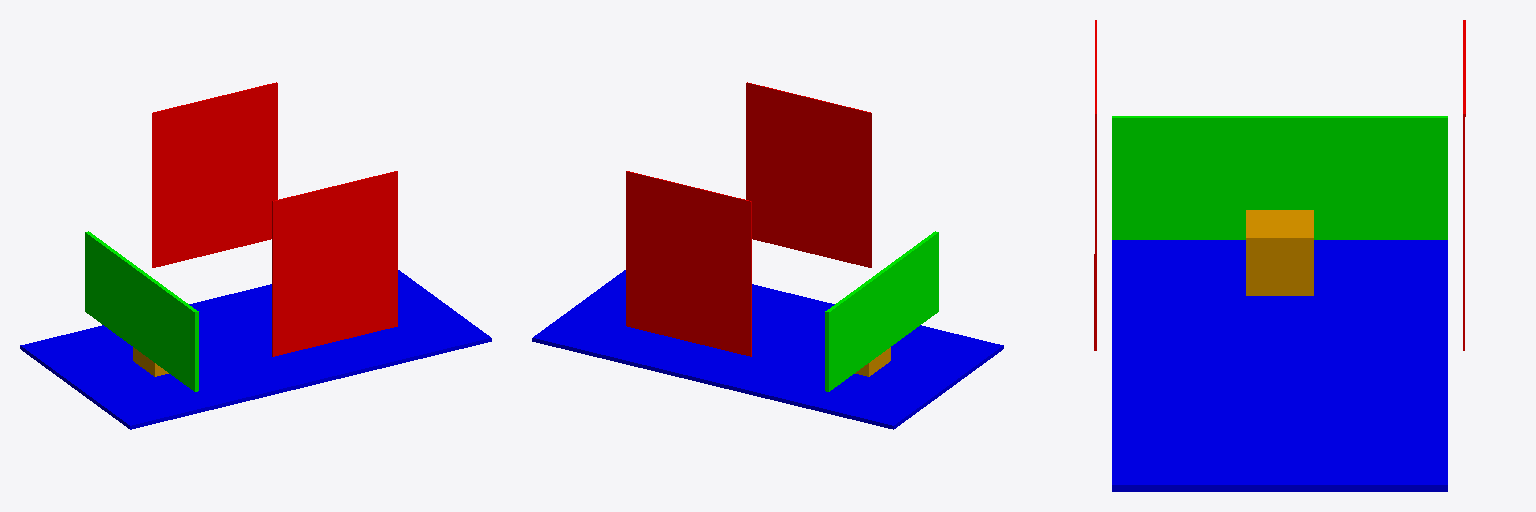
The robot description file, URDF, robot "conveyor_belt_dof1":
<?xml version="1.0"?>
<!-- =================================================================================== -->
<!-- |    This document was autogenerated by xacro from yaskawa7.urdf.xacro               | -->
<!-- |    EDITING THIS FILE BY HAND IS NOT RECOMMENDED                                 | -->
<!-- =================================================================================== -->
<robot name="conveyor_belt_dof1" xmlns:xacro="http://www.ros.org/wiki/xacro">
  <!-- Import Rviz colors -->
    <material name="green">
      <color rgba="0.0 1.0 0.0 1.0"/>
    </material>
    <material name="blue">
      <color rgba="0.0 0.0 1.0 1.0"/>
    </material>
    <material name="red">
      <color rgba="1.0 0.0 0.0 1.0"/>
    </material>
    <material name="white">
      <color rgba="1.0 1.0 1.0 1.0"/>
    </material>

    <!-- LINKS -->
    <!-- virtual link interfacing with ee_mount on robot arm-->
    <link name="ee_base">
      <visual>
        <geometry>
          <box size="0.1 0.1 0.1"/>
        </geometry>
        <origin rpy="0 0 0" xyz="0.055 0 -0.1"/>
      </visual>
    </link>

    <!-- links of cylinder base connected with the ee_base -->
    <!-- visual only? DO NOT ERASE THIS!! -->
    <!-- <link name="conveyor_belt_dof1_link">
      <inertial>
        <mass value="1.2"/>
        <origin xyz="0 0 0"/>
        <inertia ixx="1.0" ixy="0.0" ixz="0.0" iyy="1.0" iyz="0.0" izz="1.0"/>
      </inertial>
      <visual>
        <material name="white"/>
        <geometry>
          <mesh filename="../mesh/cbee_gripper_1st-collision.obj" />
        </geometry>
        <origin rpy="0 0 3.14" xyz="0.55 0 -0.1"/>
      </visual>
    </link> -->

    

     <!-- virtual link, equivlent of TCP (Tool Center Point) -->
    <link name="whisker_right_link">
      <inertial>
        <mass value="0.1"/>
        <origin xyz="0 0 0"/>
        <inertia ixx="1.0" ixy="0.0" ixz="0.0" iyy="1.0" iyz="0.0" izz="1.0"/>
      </inertial>
      <visual>
        <material name="red"/>
        <geometry>
          <box size="0.33 0.39 0.003"/> <!-- Approximation of whiskers -->
          <!-- <mesh filename="../mesh/CBEE_v4_whisker_drake.obj" /> -->
        </geometry>
        <origin rpy="1.57 0 0" xyz="0 -0.275 0.15"/>
      </visual>
      <collision>
        <geometry>
          <box size="0.33 0.39 0.003"/> <!-- Approximation of whiskers -->
          <!-- <mesh filename="../mesh/CBEE_v4_whisker_drake.obj" /> -->
        </geometry>
        <origin rpy="1.57 0 0" xyz="0 -0.275 0.15"/>
      </collision>
    </link>

    <link name="whisker_left_link">
      <inertial>
        <mass value="0.1"/>
        <origin xyz="0 0 0"/>
        <inertia ixx="1.0" ixy="0.0" ixz="0.0" iyy="1.0" iyz="0.0" izz="1.0"/>
      </inertial>
      <visual>
        <material name="red"/>
        <geometry>
          <box size="0.33 0.39 0.003"/> <!-- Approximation of whiskers -->
          <!-- <mesh filename="../mesh/CBEE_v4_whisker_drake.obj" /> -->
        </geometry>
        <origin rpy="1.57 0 0" xyz="0 0.275 0.15"/>
      </visual>
      <collision>
        <geometry>
          <box size="0.33 0.39 0.003"/> <!-- Approximation of whiskers -->
          <!-- <mesh filename="../mesh/CBEE_v4_whisker_drake.obj" /> -->
        </geometry>
        <origin rpy="1.57 0 0" xyz="0 0.275 0.15"/>
      </collision>
    </link>

    <link name="pusher_link">
      <inertial>
        <mass value="0.01"/>
        <origin xyz="0 0 0"/>
        <inertia ixx="1.0" ixy="0.0" ixz="0.0" iyy="1.0" iyz="0.0" izz="1.0"/>
      </inertial>
      <visual>
        <material name="green"/>
        <origin xyz="0.0 0 0" rpy="0 0 0"/>
        <geometry>
          <box size="0.01 0.5 0.2"/>
        </geometry>
      </visual>
      <collision>
        <origin xyz="0.0 0 0" rpy="0 0 0"/>
        <geometry>
          <box size="0.1 0.5 0.2"/>
        </geometry>
      </collision>
    </link>

    <link name="puller_link">
      <inertial>
        <mass value="0.01"/>
        <origin xyz="0 0 0"/>
        <inertia ixx="1.0" ixy="0.0" ixz="0.0" iyy="1.0" iyz="0.0" izz="1.0"/>
      </inertial>
      <visual>
        <material name="blue"/>
        <origin xyz="0.3 0 -0.15" rpy="0 0 0"/>
        <geometry>
          <box size="0.95 0.5 0.01"/>
        </geometry>
      </visual>
      <collision>   
        <origin xyz="0.3 0 -0.15" rpy="0 0 0"/>
        <geometry>
          <box size="0.95 0.5 0.01"/> <!-- 0.4-->
        </geometry>
      </collision>
    </link>

    <!-- frame, equivlent of TCP (Tool Center Point) -->
    <frame link="ee_base" name="ee_tip_0" rpy="0 0 0" xyz="0.54 0 0"/>

    <!-- END LINKS -->


    <!-- joint whisker right -->
    <joint name="whisker_right_joint" type="revolute">
      <parent link="ee_base"/>
      <child link="whisker_right_link"/>
      <origin xyz="0.35 0 0" rpy="0 0 0"/>
      <axis xyz="1 0 0"/>

    </joint>
    <!-- joint whisker left -->
    <joint name="whisker_left_joint" type="revolute">
      <parent link="ee_base"/>
      <child link="whisker_left_link"/>
      <origin xyz="0.35 0 0" rpy="0 0 0"/>
      <axis xyz="1 0 0"/>
    </joint>

    <joint name="pusher_joint" type="prismatic">
      <parent link="ee_base"/>
      <child link="pusher_link"/>
      <origin xyz="0 0 0" rpy="0 0 0"/>
    </joint>

    <joint name="puller_joint" type="prismatic">
      <parent link="ee_base"/>
      <child link="puller_link"/>
      <origin xyz="0 0 0" rpy="0 0 0"/>
    </joint>
    <!-- END JOINTS -->

    <!-- DO NOT ERASE THIS!! -->
    <!-- virtual joint, connect ee_base to various link in end effector -->
    <!-- <joint name="conveyor_belt_dof1_joint" type="fixed">
      <parent link="ee_base"/>
      <child link="conveyor_belt_dof1_link"/>
      <origin xyz="0 0 0" rpy="0 0 0"/>
    </joint> -->


    <!-- END JOINTS -->

  <!--Extensions -->
  <!-- Load Gazebo lib and set the robot namespace -->
  <gazebo>
    <plugin filename="libgazebo_ros_control.so" name="gazebo_ros_controller">
      <robotNamespace>/yaskawa_ee</robotNamespace>
    </plugin>
  </gazebo>
  <!-- Link0 -->
  <gazebo reference="ee_base">
    <material>Gazebo/Grey</material>
    <mu1>0.2</mu1>
    <mu2>0.2</mu2>
  </gazebo>
  <!-- Link0 -->
  <!-- <gazebo reference="conveyor_belt_dof1_link">
    <material>Gazebo/Grey</material>
    <mu1>0.2</mu1>
    <mu2>0.2</mu2>
  </gazebo>   -->

  <!-- Link0 -->
  <gazebo reference="whisker_right_link">
    <material>Gazebo/Grey</material>
    <mu1>0.2</mu1>
    <mu2>0.2</mu2>
  </gazebo>  
  <!-- Link0 -->
  <gazebo reference="whisker_left_link">
    <material>Gazebo/Grey</material>
    <mu1>0.2</mu1>
    <mu2>0.2</mu2>
  </gazebo>
  <!-- Link0 -->
  <gazebo reference="ee_tip_0">
    <material>Gazebo/Grey</material>
    <mu1>0.2</mu1>
    <mu2>0.2</mu2>
  </gazebo>

<!-- <transmission name="yaskawa_tran_1">
    <robotNamespace>/yaskawa</robotNamespace>
    <type>transmission_interface/SimpleTransmission</type>
    <joint name="ee_base_joint">
      <hardwareInterface>PositionJointInterface</hardwareInterface>
    </joint>
    <actuator name="yaskawa_motor_1">
      <hardwareInterface>PositionJointInterface</hardwareInterface>
      <mechanicalReduction>1</mechanicalReduction>
    </actuator>
  </transmission> -->

 

  <transmission name="yaskawa_ee_1">
    <robotNamespace>/yaskawa</robotNamespace>
    <type>transmission_interface/SimpleTransmission</type>
    <joint name="whisker_right_joint">
      <hardwareInterface>PositionJointInterface</hardwareInterface>
    </joint>
    <actuator name="yaskawa_motor_1">
      <hardwareInterface>PositionJointInterface</hardwareInterface>
      <mechanicalReduction>1</mechanicalReduction>
    </actuator>
  </transmission>

  <transmission name="yaskawa_ee_2">
    <robotNamespace>/yaskawa</robotNamespace>
    <type>transmission_interface/SimpleTransmission</type>
    <joint name="whisker_left_joint">
      <hardwareInterface>PositionJointInterface</hardwareInterface>
    </joint>
    <actuator name="yaskawa_motor_2">
      <hardwareInterface>PositionJointInterface</hardwareInterface>
      <mechanicalReduction>1</mechanicalReduction>
    </actuator>
  </transmission>

   <transmission name="pusher_tran">
    <robotNamespace>/yaskawa</robotNamespace>
    <type>transmission_interface/SimpleTransmission</type>
    <joint name="pusher_joint">
      <hardwareInterface>PositionJointInterface</hardwareInterface>
    </joint>
    <actuator name="yaskawa_motor_3">
      <hardwareInterface>PositionJointInterface</hardwareInterface>
      <mechanicalReduction>1</mechanicalReduction>
    </actuator>
  </transmission>


  <transmission name="puller_tran">
    <robotNamespace>/yaskawa</robotNamespace>
    <type>transmission_interface/SimpleTransmission</type>
    <joint name="puller_joint">
      <hardwareInterface>PositionJointInterface</hardwareInterface>
    </joint>
    <actuator name="yaskawa_motor_4">
      <hardwareInterface>PositionJointInterface</hardwareInterface>
      <mechanicalReduction>1</mechanicalReduction>
    </actuator>
  </transmission>

</robot>

--- What the picture shows (computed from the rendered views, not written in the file) ---
The picture shows the robot from 3 angles, left to right: view 1: azimuth 30°, elevation 25°; view 2: azimuth 150°, elevation 25°; view 3: azimuth 270°, elevation 25°; orthographic projection.
Model conveyor_belt_dof1 with 5 links and 4 joints (2 revolute, 2 prismatic), rooted at ee_base, posed every joint at zero.
Links seen in each view (by area): view 1: puller_link, whisker_right_link, whisker_left_link, pusher_link; view 2: puller_link, whisker_left_link, whisker_right_link, pusher_link; view 3: puller_link, pusher_link, ee_base, whisker_right_link, whisker_left_link.
Link boxes in pixels (x1=…): puller_link: x1=20, y1=270, x2=491, y2=429; whisker_right_link: x1=272, y1=171, x2=397, y2=356; whisker_left_link: x1=152, y1=82, x2=277, y2=267; pusher_link: x1=85, y1=231, x2=198, y2=391; puller_link: x1=532, y1=270, x2=1003, y2=429; whisker_left_link: x1=626, y1=171, x2=751, y2=356; whisker_right_link: x1=746, y1=82, x2=871, y2=267; pusher_link: x1=825, y1=231, x2=938, y2=391; puller_link: x1=1112, y1=240, x2=1447, y2=491; pusher_link: x1=1112, y1=116, x2=1447, y2=239; ee_base: x1=1246, y1=210, x2=1313, y2=295; whisker_right_link: x1=1094, y1=20, x2=1096, y2=350; whisker_left_link: x1=1463, y1=20, x2=1465, y2=350.
Bounding box of the posed robot: 0.95 × 0.5533 × 0.5 m (x, y, z).
Geometry: primitives only (box / cylinder / sphere), no mesh files.
